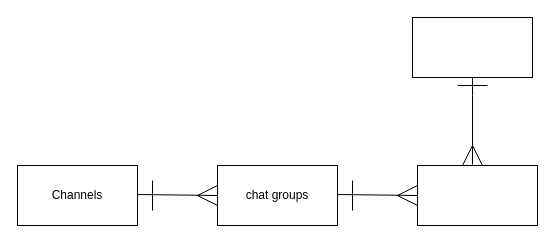
Some shapes in this 555 by 243 pixel diagram are drawn without their labels. The centre of each missing label's shape, as x and y in pixels:
messages: [477,195]
User: [472,47]
